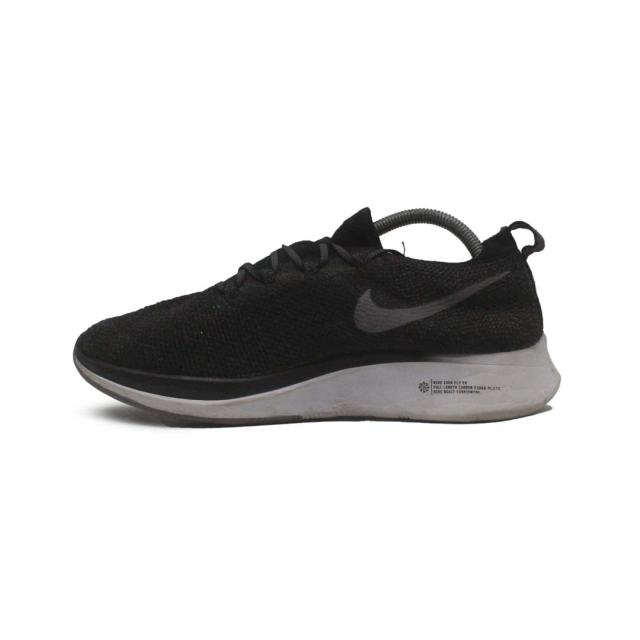heel: (479, 224, 551, 352)
midsole: (71, 338, 559, 420)
uppersole: (73, 208, 492, 378)
